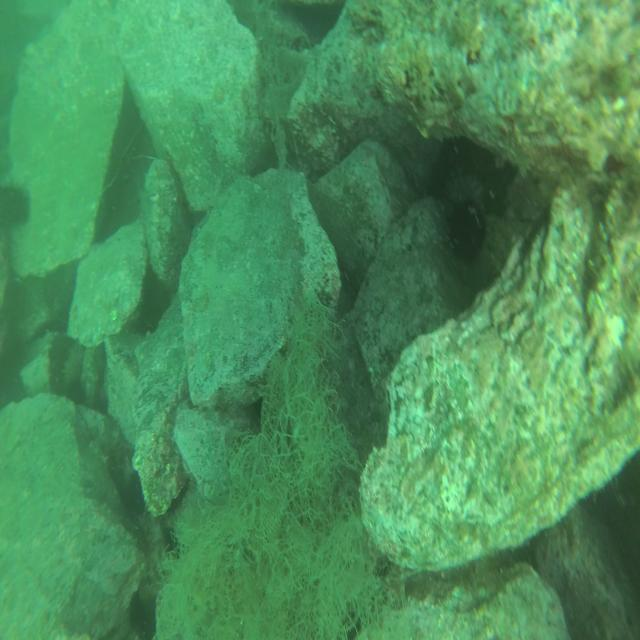echinus: (445, 171, 481, 228), (450, 200, 484, 260), (2, 182, 30, 227)
